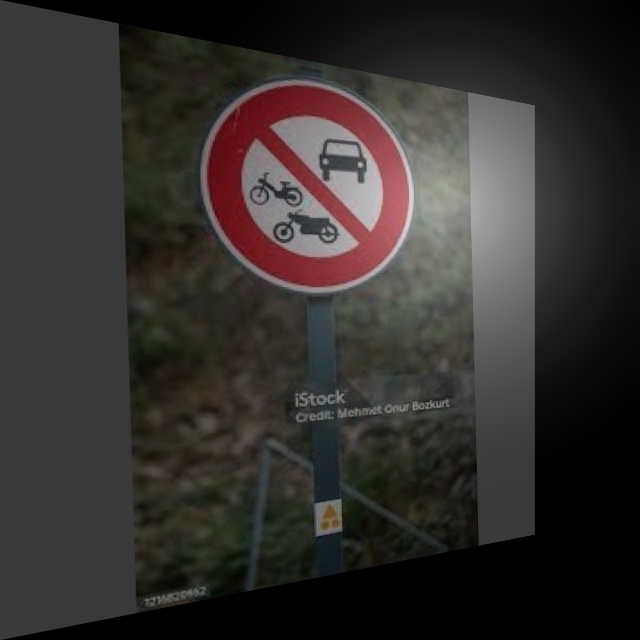All_Motor_Vehicles_Prohibited: (195, 52, 413, 296)
